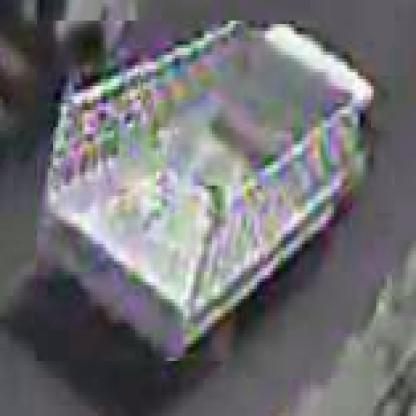truck: (36, 22, 378, 366)
